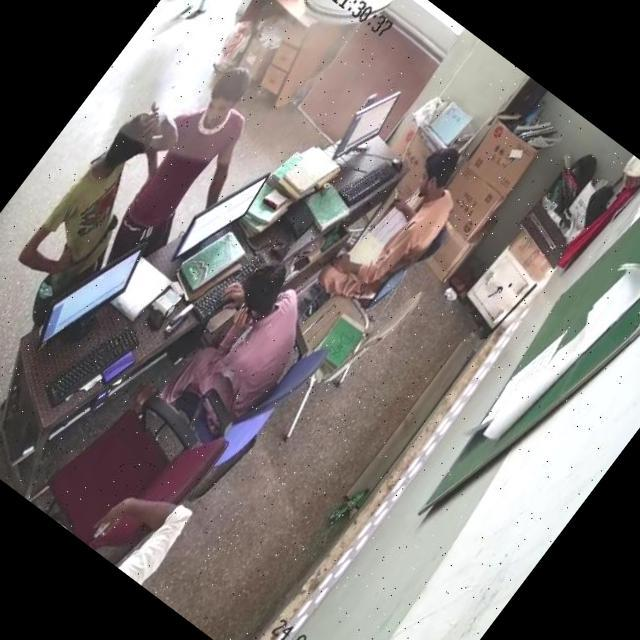person: (112, 34, 288, 242), (17, 82, 194, 286), (331, 141, 478, 311), (201, 241, 352, 403), (155, 0, 293, 36)
